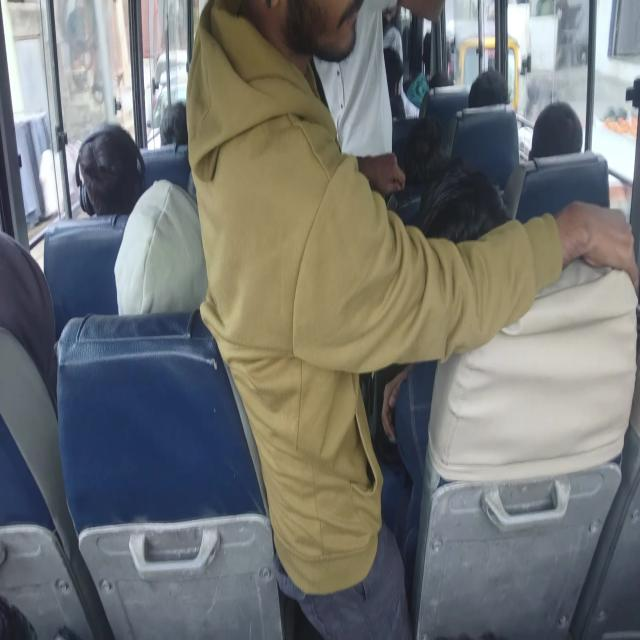person: (186, 0, 347, 96), (313, 0, 408, 119), (116, 188, 196, 298), (416, 173, 499, 272), (4, 254, 52, 360), (86, 125, 146, 208), (527, 101, 589, 170), (395, 119, 455, 175), (374, 46, 416, 98), (464, 67, 508, 112), (163, 96, 191, 142), (378, 5, 405, 40), (420, 28, 445, 62), (428, 67, 448, 90)
